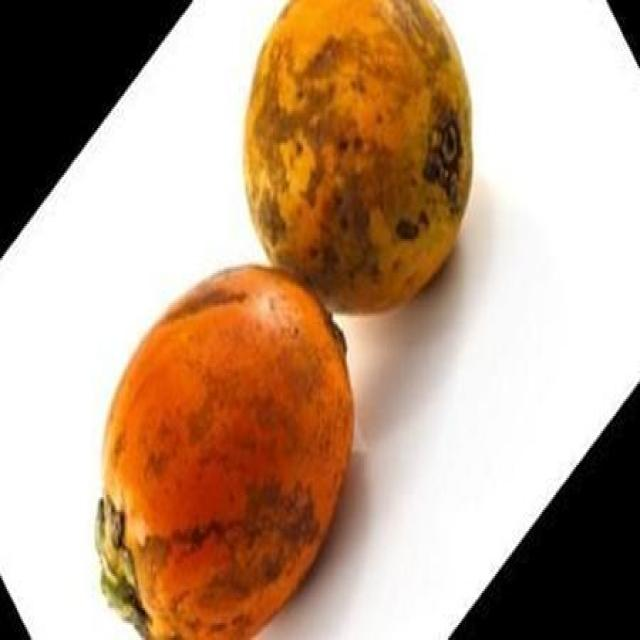good: (95, 265, 356, 638), (243, 0, 475, 318)
